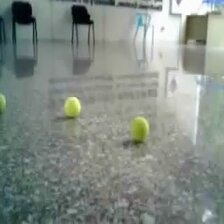tennis: (131, 116, 148, 142), (64, 96, 80, 116), (1, 92, 7, 115)
